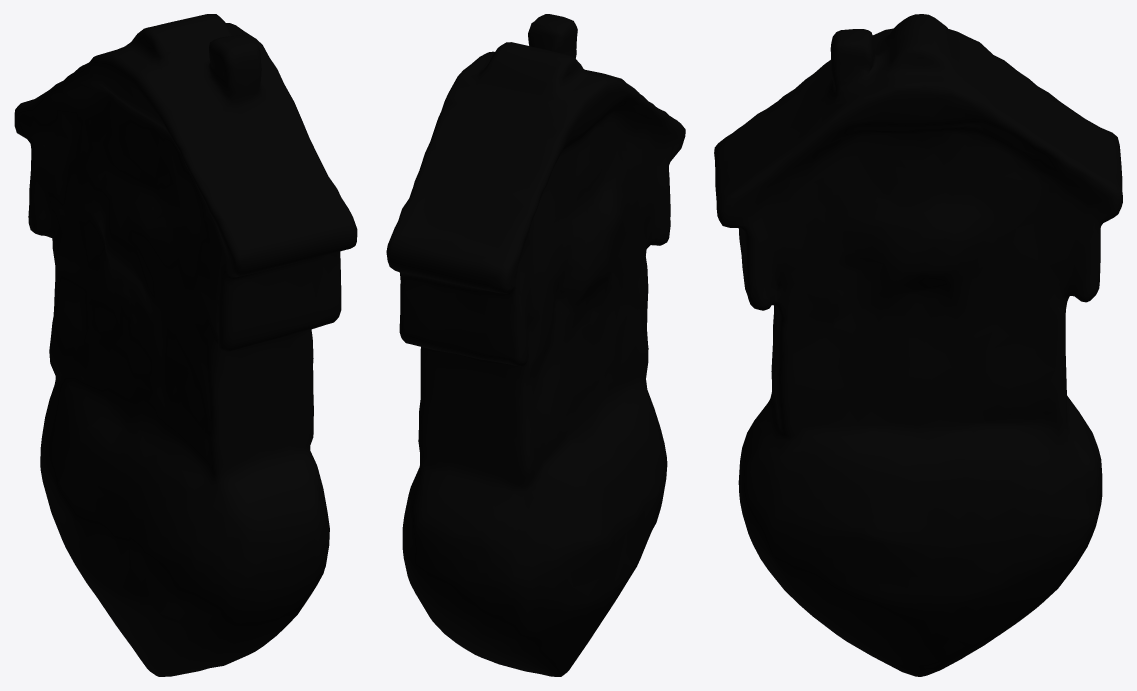
The model's file is HeidiPeterSouvenir.fbx.
3 renders of one model, left to right at view 1: azimuth 30°, elevation 25°; view 2: azimuth 150°, elevation 25°; view 3: azimuth 270°, elevation 25°, orthographic. The views are drawn at different scales.
Parts seen in each view (by area): view 1: HeidiPeterSouvenir; view 2: HeidiPeterSouvenir; view 3: HeidiPeterSouvenir.
Part boxes in pixels (<box>): HeidiPeterSouvenir: <box>14,14,357,676</box>; HeidiPeterSouvenir: <box>386,14,685,676</box>; HeidiPeterSouvenir: <box>714,14,1122,676</box>.
Bounding box in the file's own units: 29.92 × 96.92 × 56.48.
Materials: 1 (1 with a texture image).
